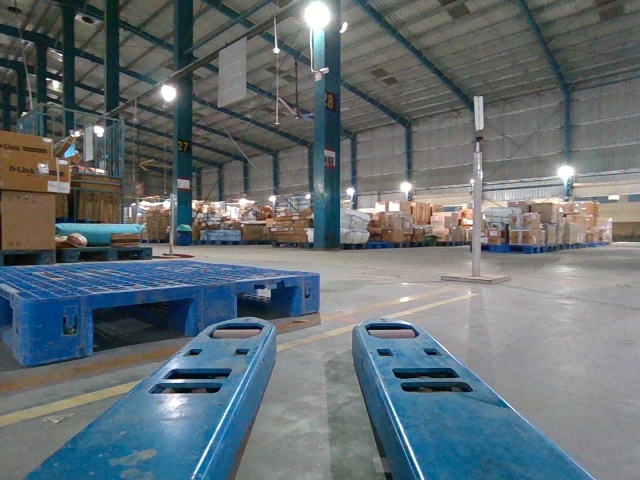pallet: (27, 271, 319, 365)
